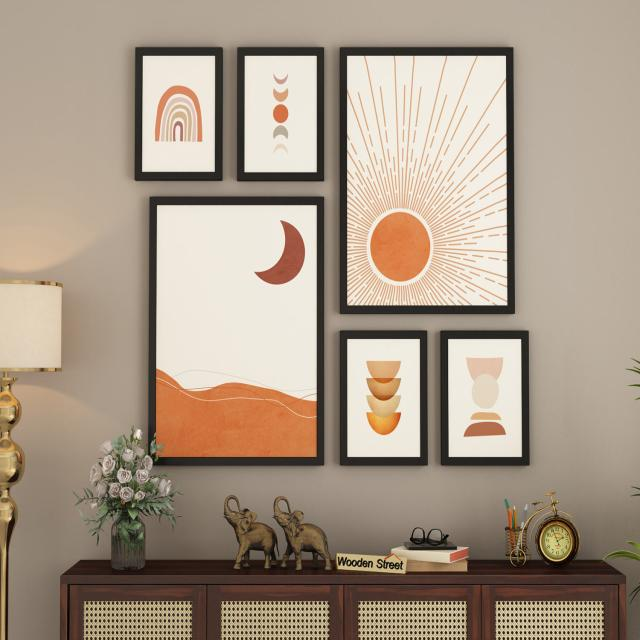painting: (150, 196, 324, 463), (340, 47, 514, 311), (238, 49, 327, 184), (135, 45, 223, 181), (441, 331, 529, 467), (340, 331, 428, 467)
